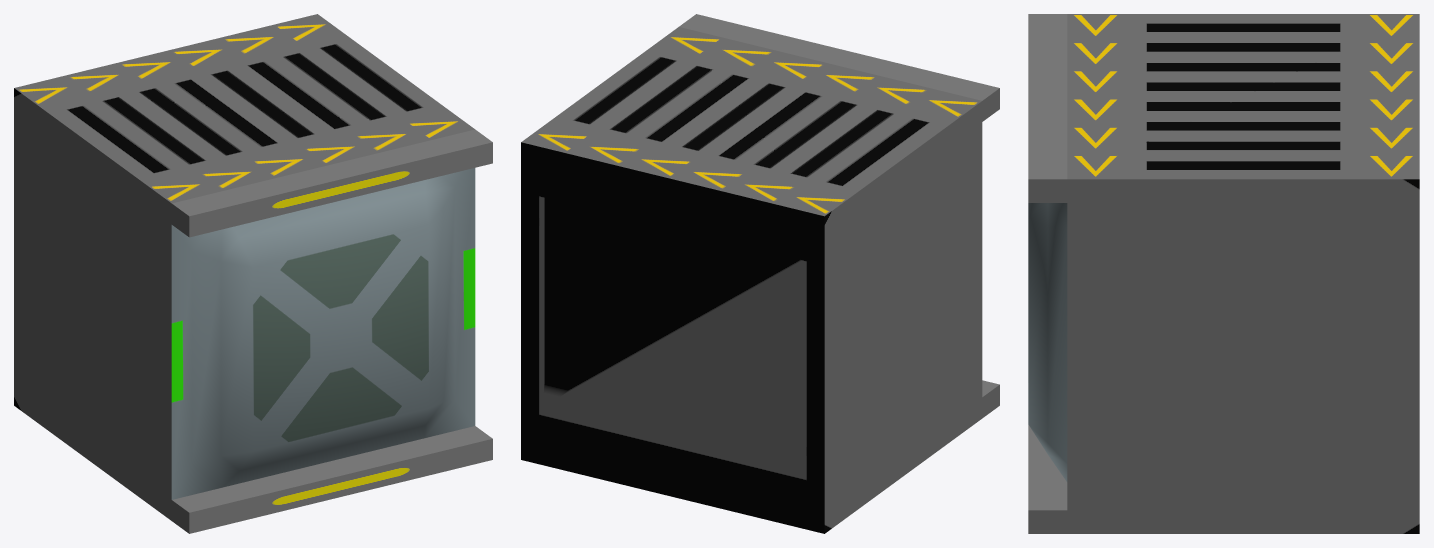
Rendered from TopAndDown.fbx.
The picture shows the model from 3 angles, left to right: view 1: azimuth 30°, elevation 25°; view 2: azimuth 150°, elevation 25°; view 3: azimuth 270°, elevation 25°; orthographic projection. The views are drawn at different scales.
Parts seen in each view (by area): view 1: geo1; view 2: geo1; view 3: geo1.
Boxes of the visible parts, box(x1,y1,x2,y2) form: geo1: box(14, 14, 492, 533); geo1: box(521, 14, 999, 533); geo1: box(1028, 14, 1419, 533).
Size of the model in its own units: 3 by 3 by 3.
